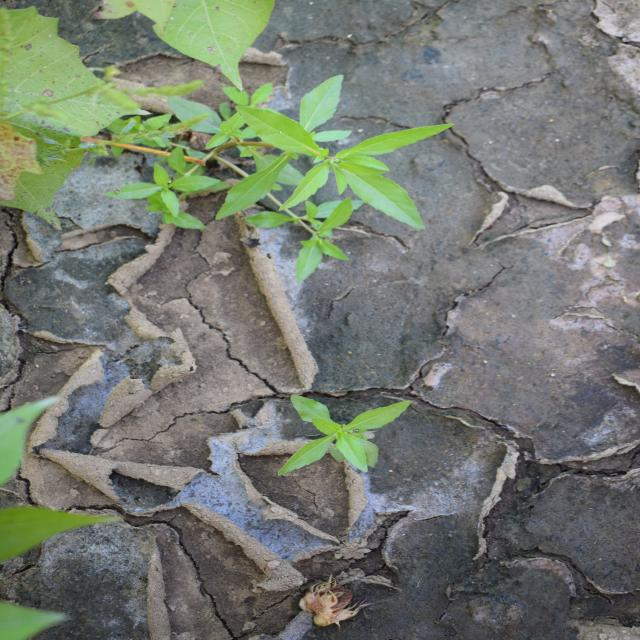Eclipta: (99, 72, 458, 286), (276, 392, 416, 478)
